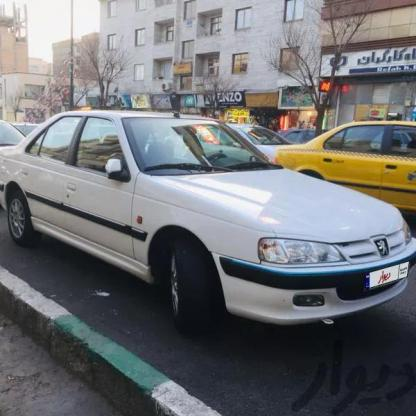Car: (0, 106, 416, 341), (278, 113, 416, 219)
